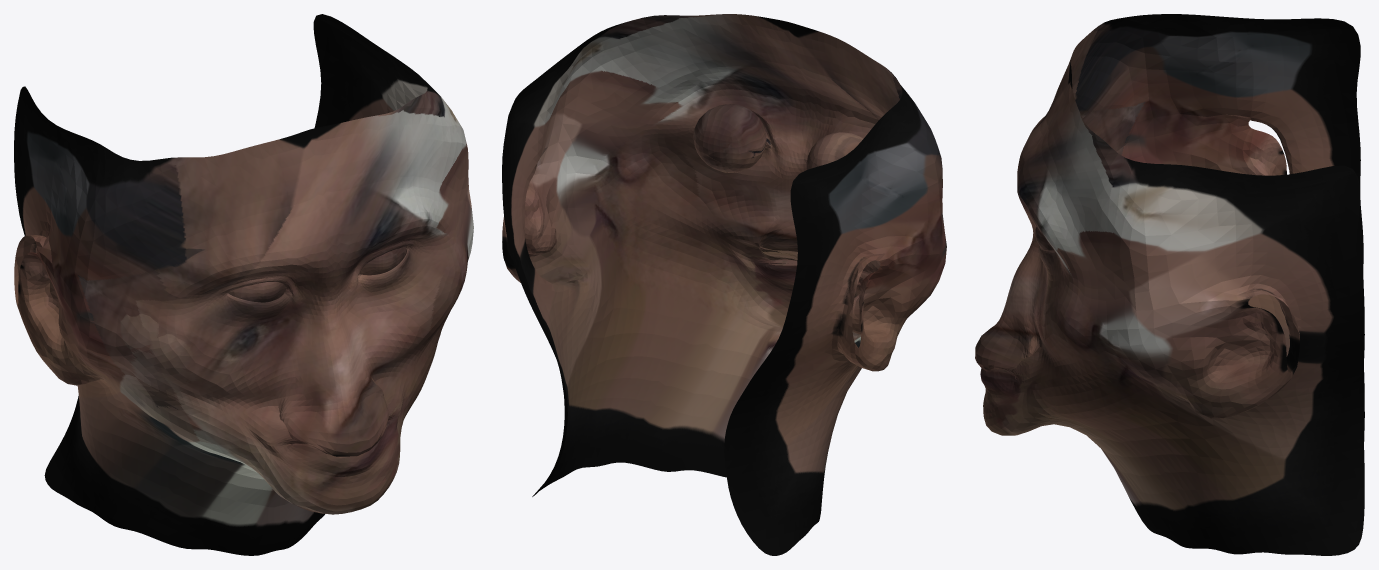
File: baseline.glb
The picture shows the model from 3 angles, left to right: view 1: azimuth 30°, elevation 25°; view 2: azimuth 150°, elevation 25°; view 3: azimuth 270°, elevation 25°; orthographic projection. The views are drawn at different scales.
Parts seen in each view (by area): view 1: geometry_0; view 2: geometry_0; view 3: geometry_0.
Part boxes in pixels (x1,y1,x2,y2): geometry_0: [14, 14, 473, 555]; geometry_0: [502, 14, 946, 555]; geometry_0: [975, 14, 1364, 555].
Bounding box in the file's own units: 0.184 × 0.1996 × 0.1575.
1 material, 1 textured.
